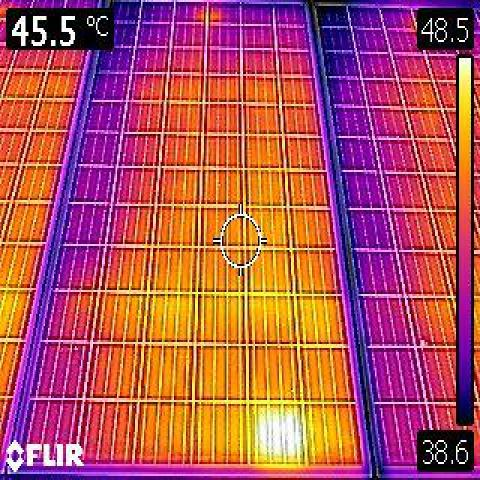fault: (255, 405, 303, 461)
